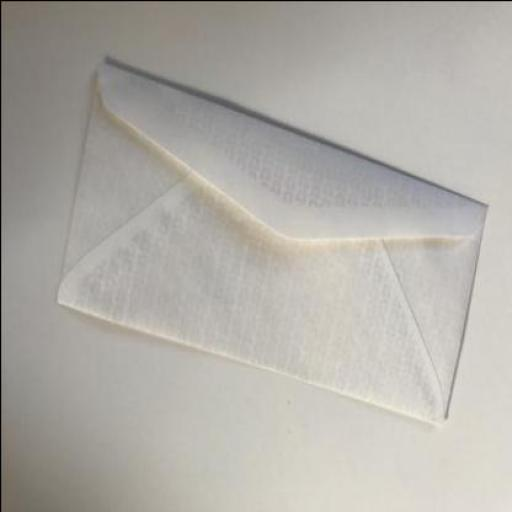paper: (57, 60, 488, 419)
